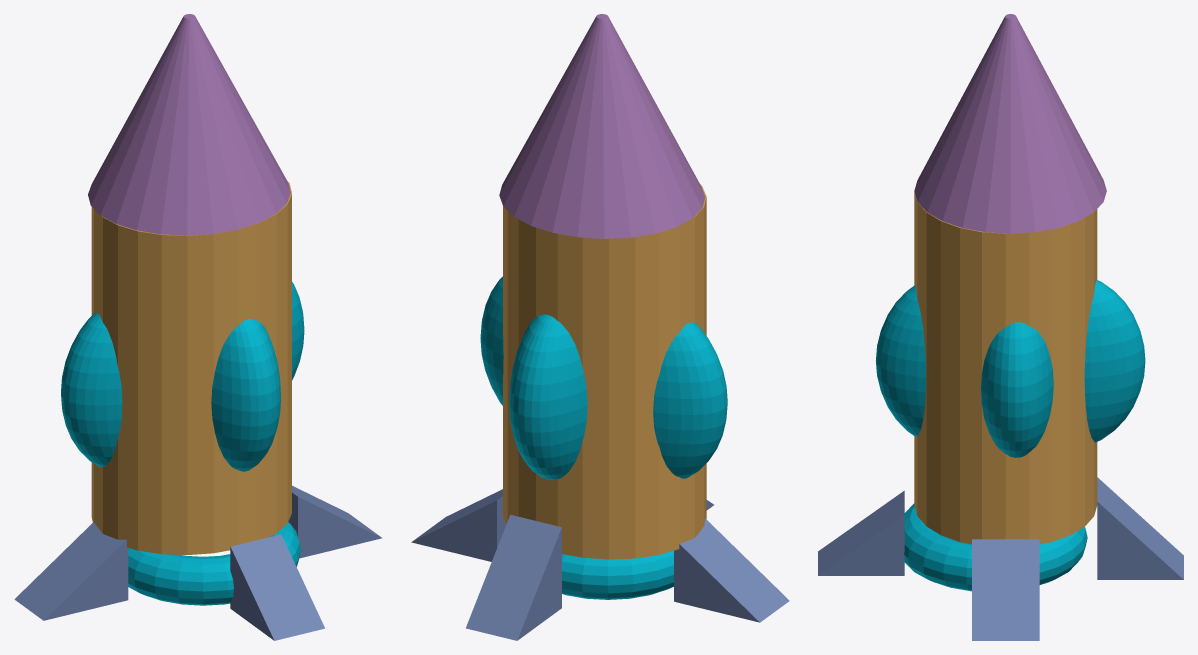
File: lucasrocket.glb
The picture shows the model from 3 angles, left to right: view 1: azimuth 30°, elevation 25°; view 2: azimuth 150°, elevation 25°; view 3: azimuth 270°, elevation 25°; orthographic projection. The views are drawn at different scales.
Visible parts, largest first — view 1: Mesh_Mesh_head_geo.001_lambert2SG.001; view 2: Mesh_Mesh_head_geo.001_lambert2SG.001; view 3: Mesh_Mesh_head_geo.001_lambert2SG.001.
Part boxes in pixels (<box>): Mesh_Mesh_head_geo.001_lambert2SG.001: <box>14,14,382,640</box>; Mesh_Mesh_head_geo.001_lambert2SG.001: <box>411,14,789,640</box>; Mesh_Mesh_head_geo.001_lambert2SG.001: <box>818,14,1183,640</box>.
Bounding box in the file's own units: 40 × 62 × 38.
